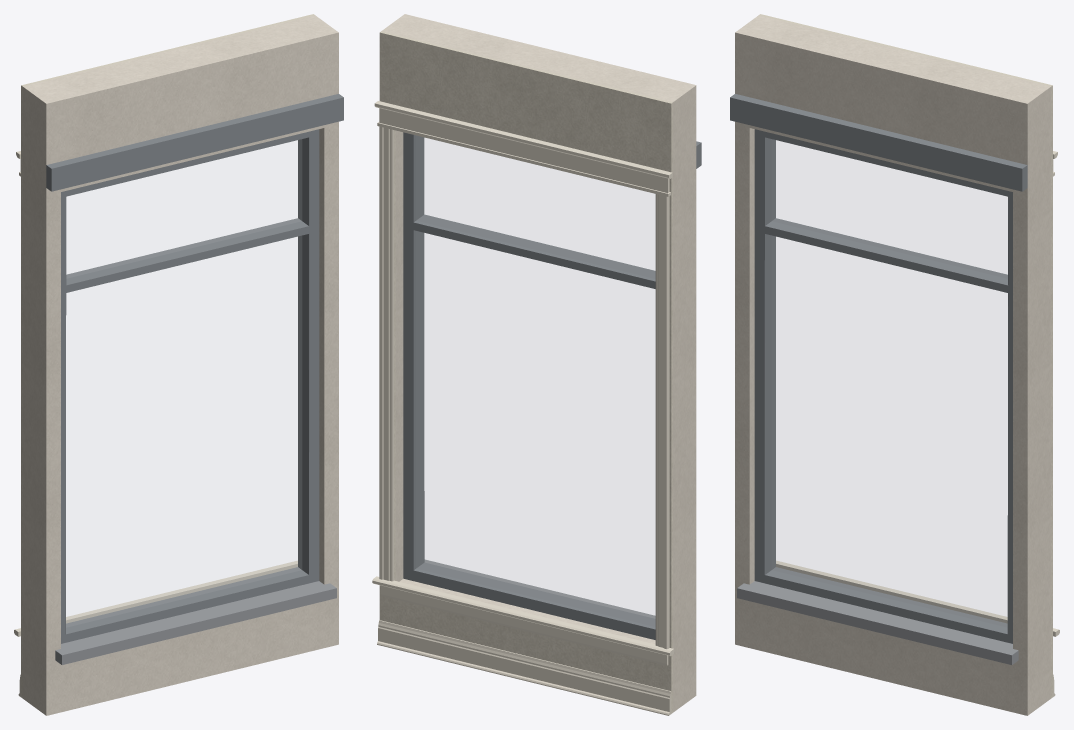
The model's file is storefront.glb.
3 views of the same model, side by side, from view 1: azimuth 30°, elevation 25°; view 2: azimuth 150°, elevation 25°; view 3: azimuth 330°, elevation 25° (orthographic).
Visible parts, largest first — view 1: storefront_glass, storefront_panel, storefront_shopframe, storefront_coping, storefront_plaster, molduras; view 2: storefront_glass, molduras, storefront_plaster, storefront_panel, storefront_shopframe, storefront_coping; view 3: storefront_glass, storefront_panel, storefront_shopframe, storefront_coping, storefront_plaster, molduras.
Part boxes in pixels (bbox=[...]): storefront_glass: bbox=[66, 140, 301, 626]; storefront_panel: bbox=[23, 15, 338, 715]; storefront_shopframe: bbox=[46, 94, 343, 643]; storefront_coping: bbox=[55, 581, 336, 664]; storefront_plaster: bbox=[21, 14, 314, 698]; molduras: bbox=[14, 151, 297, 696]; storefront_glass: bbox=[416, 136, 654, 625]; molduras: bbox=[372, 101, 673, 715]; storefront_plaster: bbox=[379, 31, 672, 713]; storefront_panel: bbox=[381, 14, 696, 712]; storefront_shopframe: bbox=[403, 132, 701, 639]; storefront_coping: bbox=[424, 559, 655, 618]; storefront_glass: bbox=[772, 140, 1007, 626]; storefront_panel: bbox=[735, 15, 1050, 715]; storefront_shopframe: bbox=[730, 94, 1027, 643]; storefront_coping: bbox=[737, 581, 1018, 664]; storefront_plaster: bbox=[759, 14, 1052, 698]; molduras: bbox=[776, 151, 1059, 696].
Size of the model in its own units: 2.04 by 4 by 0.43.
Materials: 6 (2 with a texture image).
